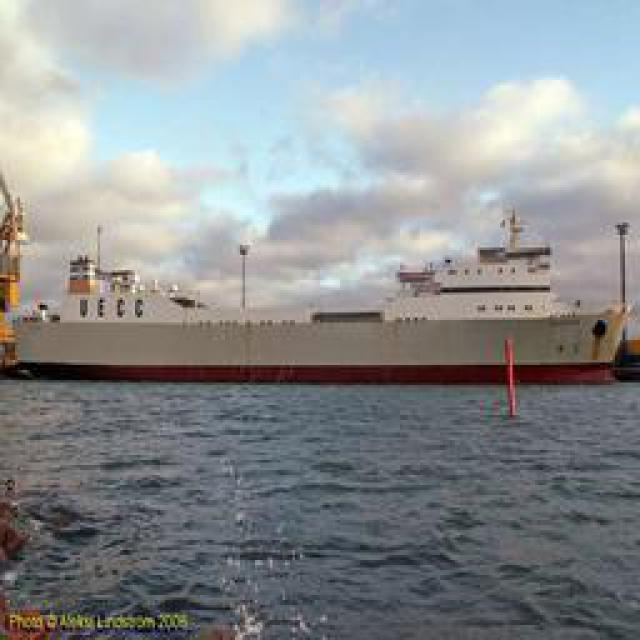Ship: (9, 225, 634, 393)
